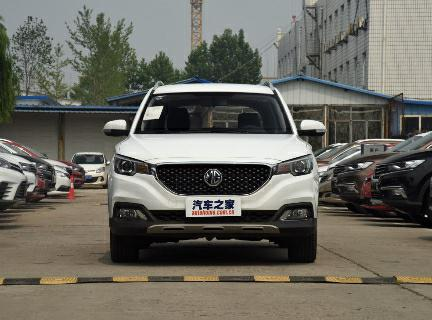名爵-ZS: (102, 74, 330, 263)
